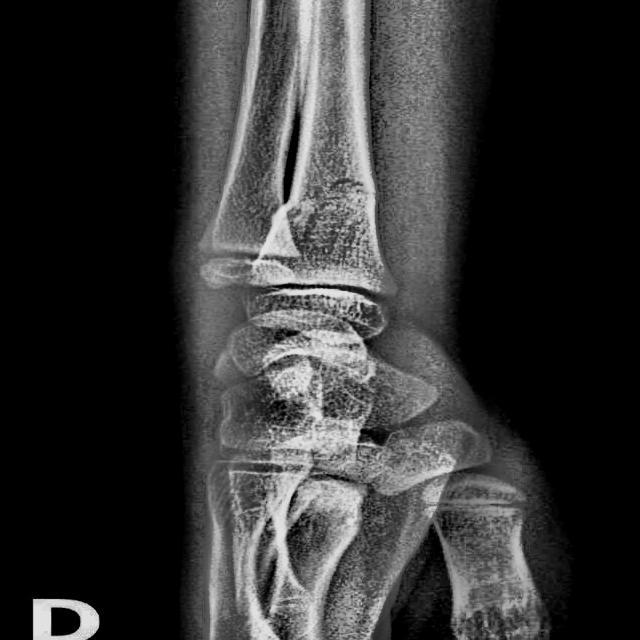fracture: (273, 178, 377, 218)
